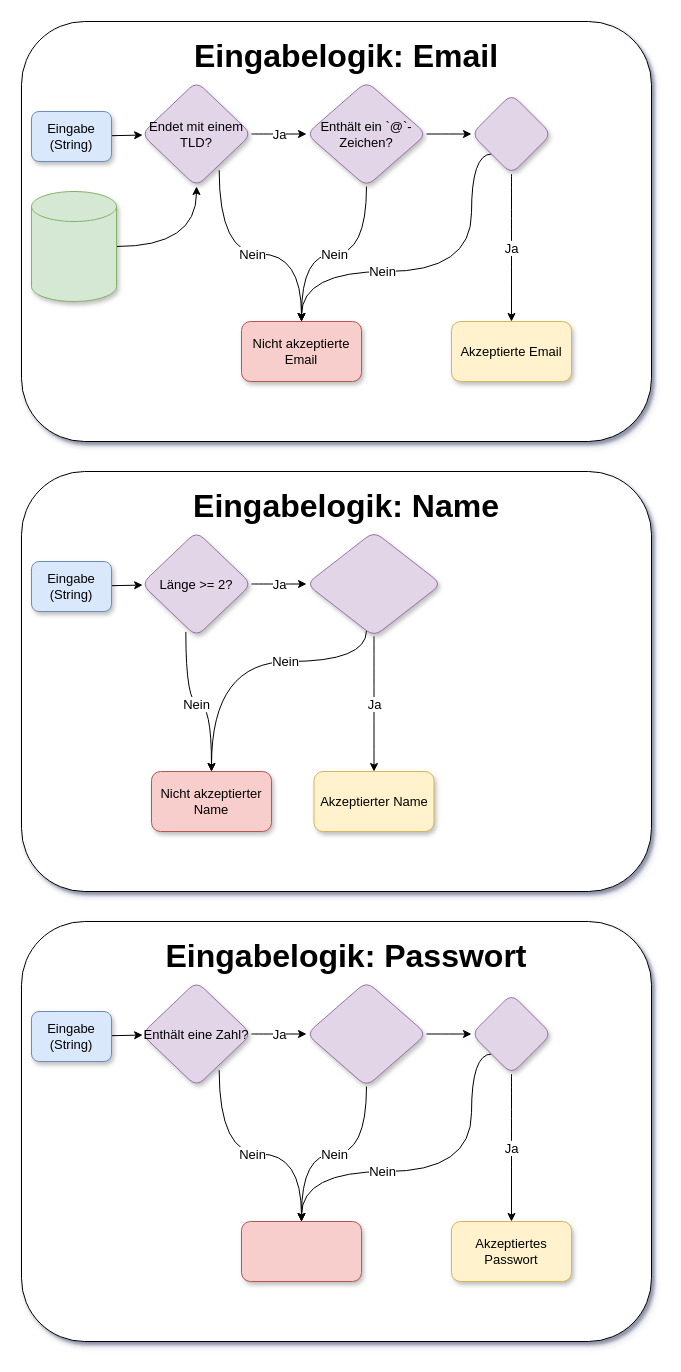
The diagram is 681 pixels wide and 1372 high, and some of its shapes have lost their labels. The shapes that lost their labels are listed below. From the top down, each one's centre as x and y in pixels, then its label:
At point (512, 135): "Länge >= 5?".
At point (74, 247): "Liste bekannter TLDs einlesen".
At point (375, 585): "Erster Buchstabe großgeschrieben?".
At point (367, 1035): "Enthält eine Sonderzeichen?".
At point (512, 1035): "Länge >= 8?".
At point (302, 1252): "Nicht akzeptiertes Passwort".
